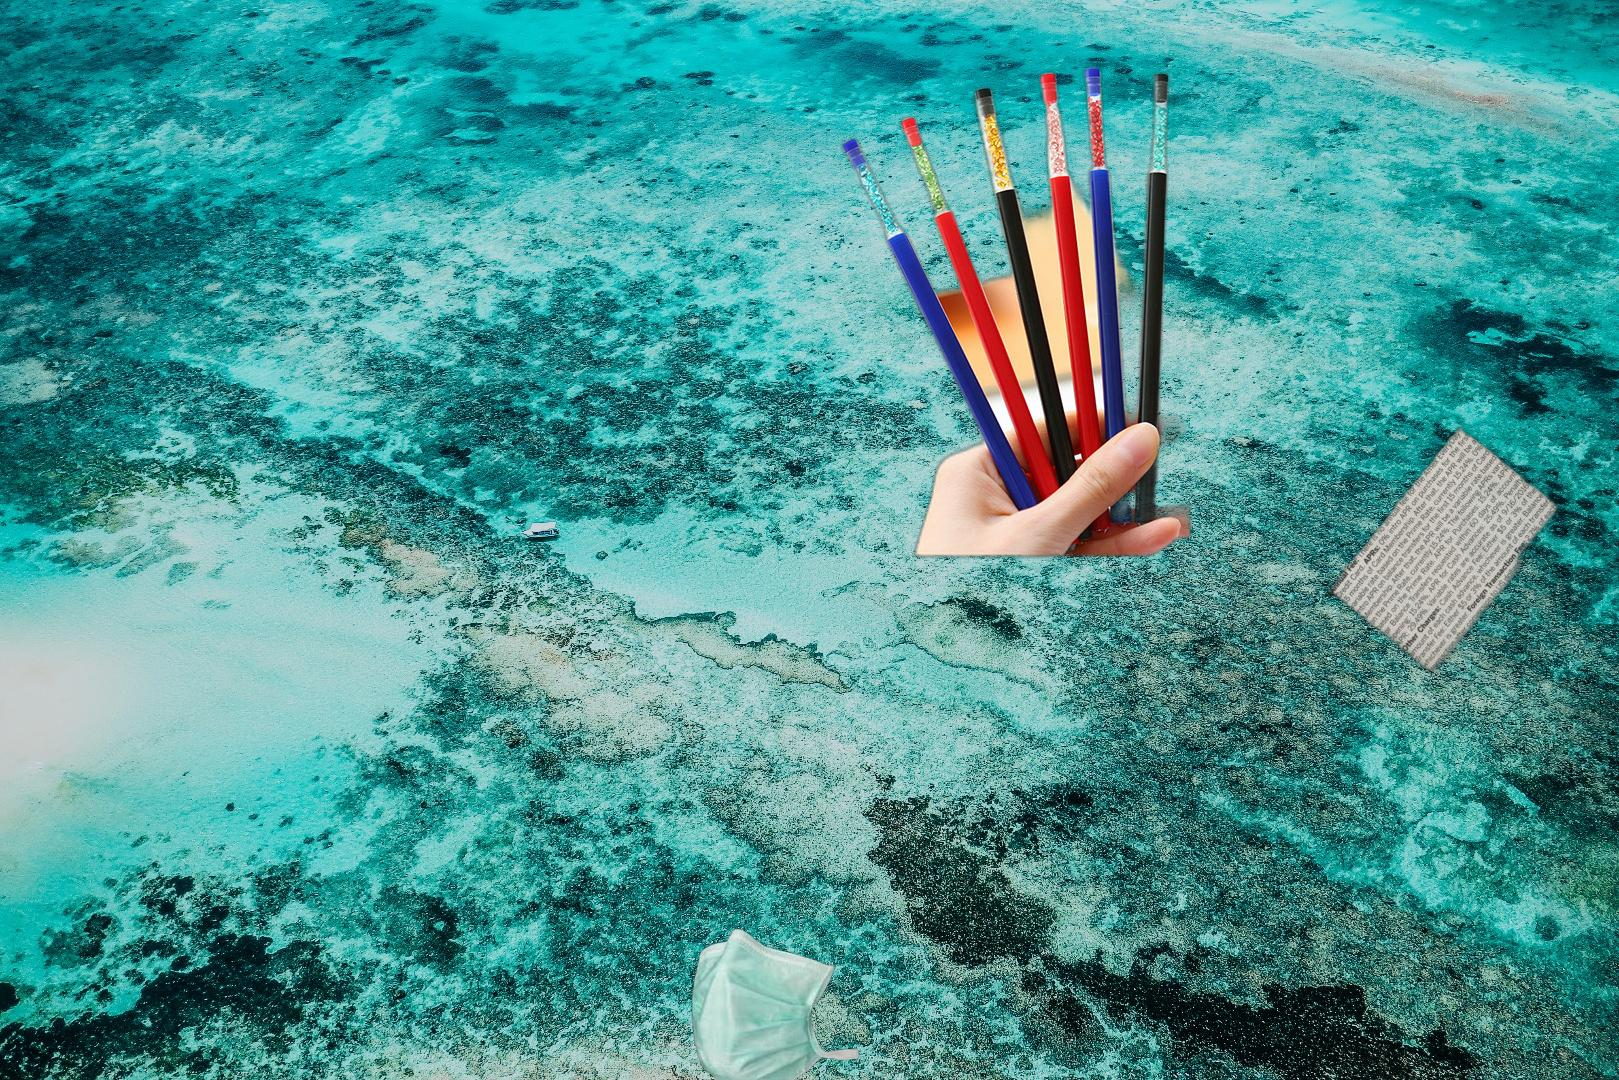paper: (1322, 424, 1619, 688)
penholder: (835, 60, 1573, 595)
trash: (691, 926, 862, 1080)
trashbox-cardboard: (1536, 644, 1619, 1072)
